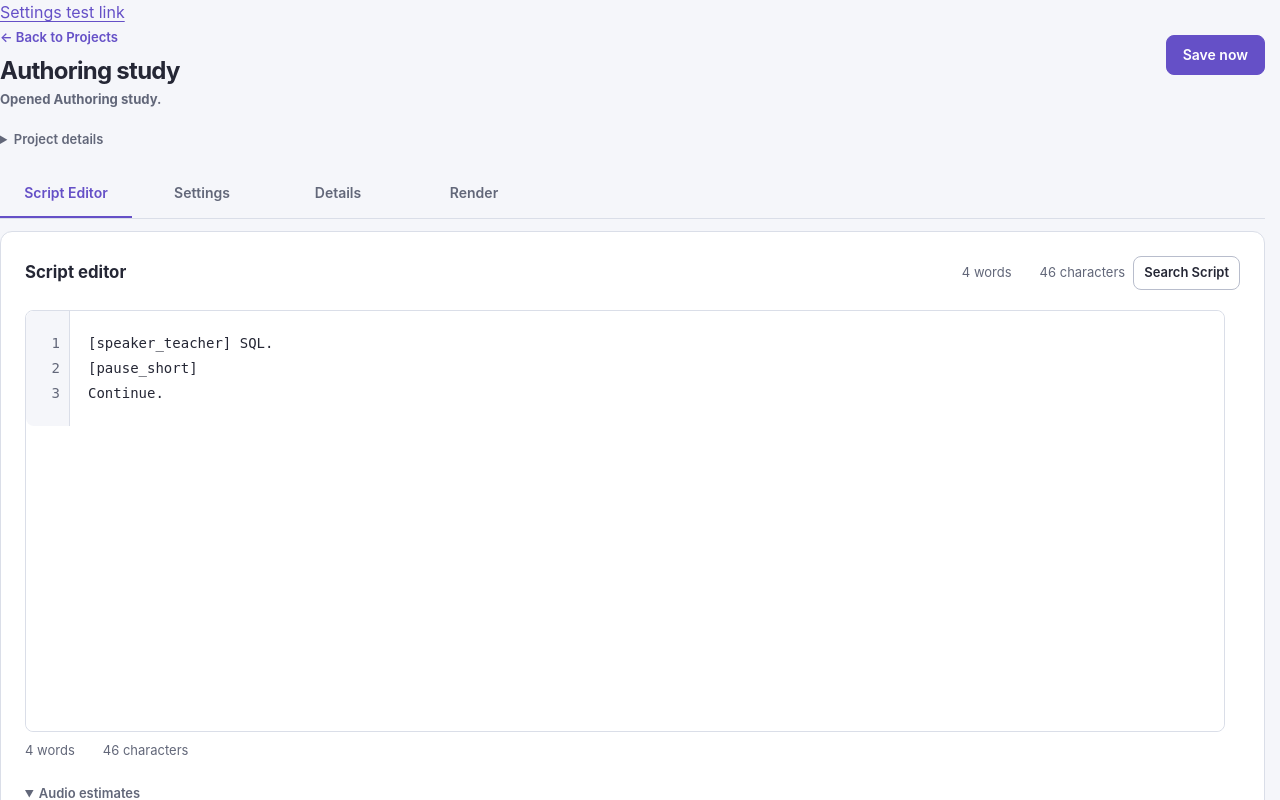
Test: Projects workbench › uses worker-derived speech and exact pauses with persisted voice calibration
This screenshot has width=1280, height=800.
Click the tab "Settings": [202, 194] box [136,170,268,218]
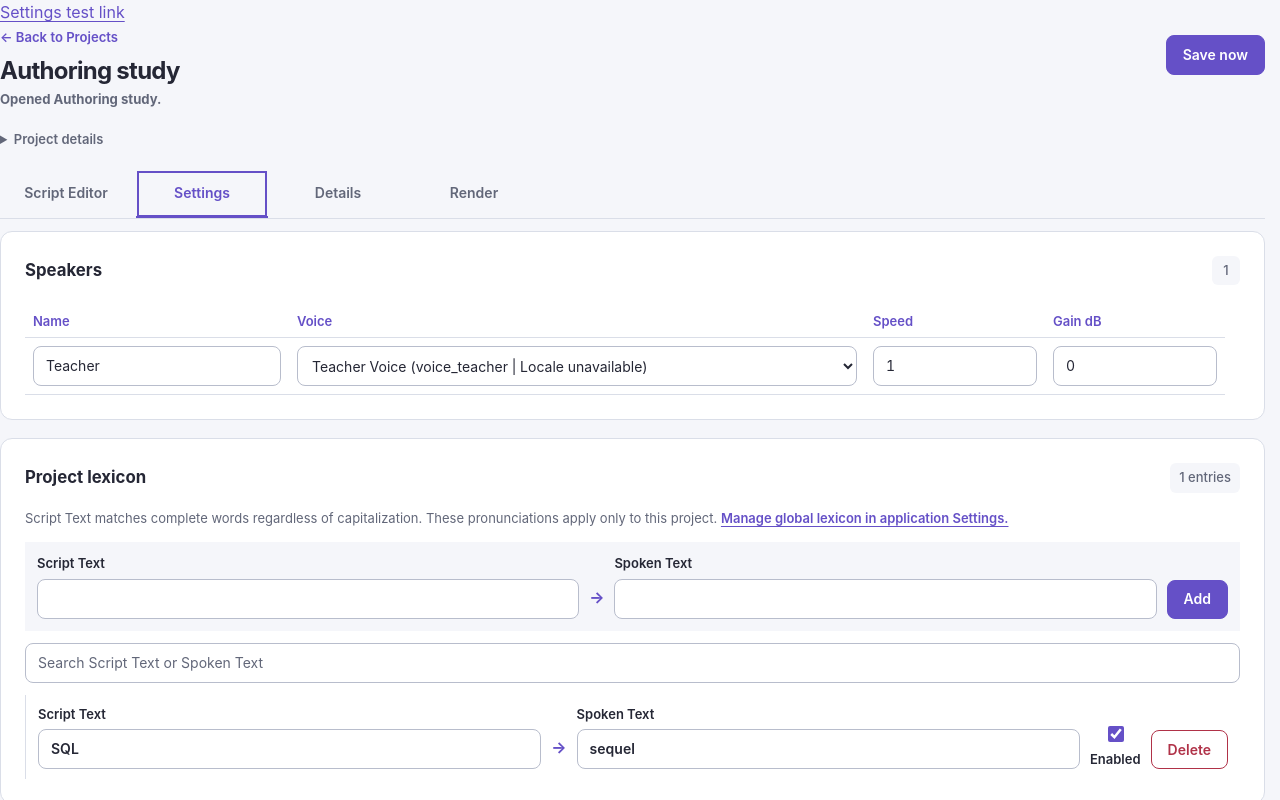
Replace the text in the number field named "Speed for speaker teacher" with "2": [955, 366] box [873,346,1037,386]
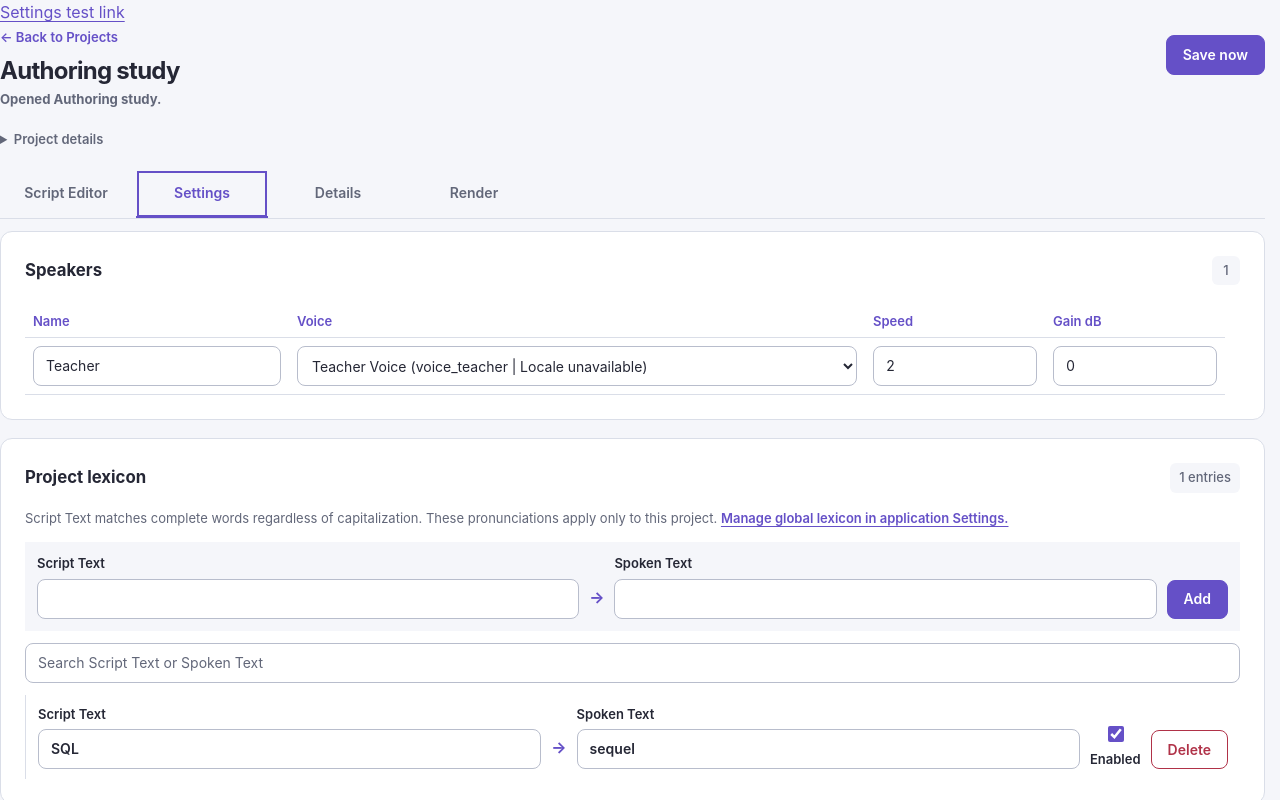
Click the tab "Script Editor": [66, 194] box [0,170,132,218]
(page scrolled)
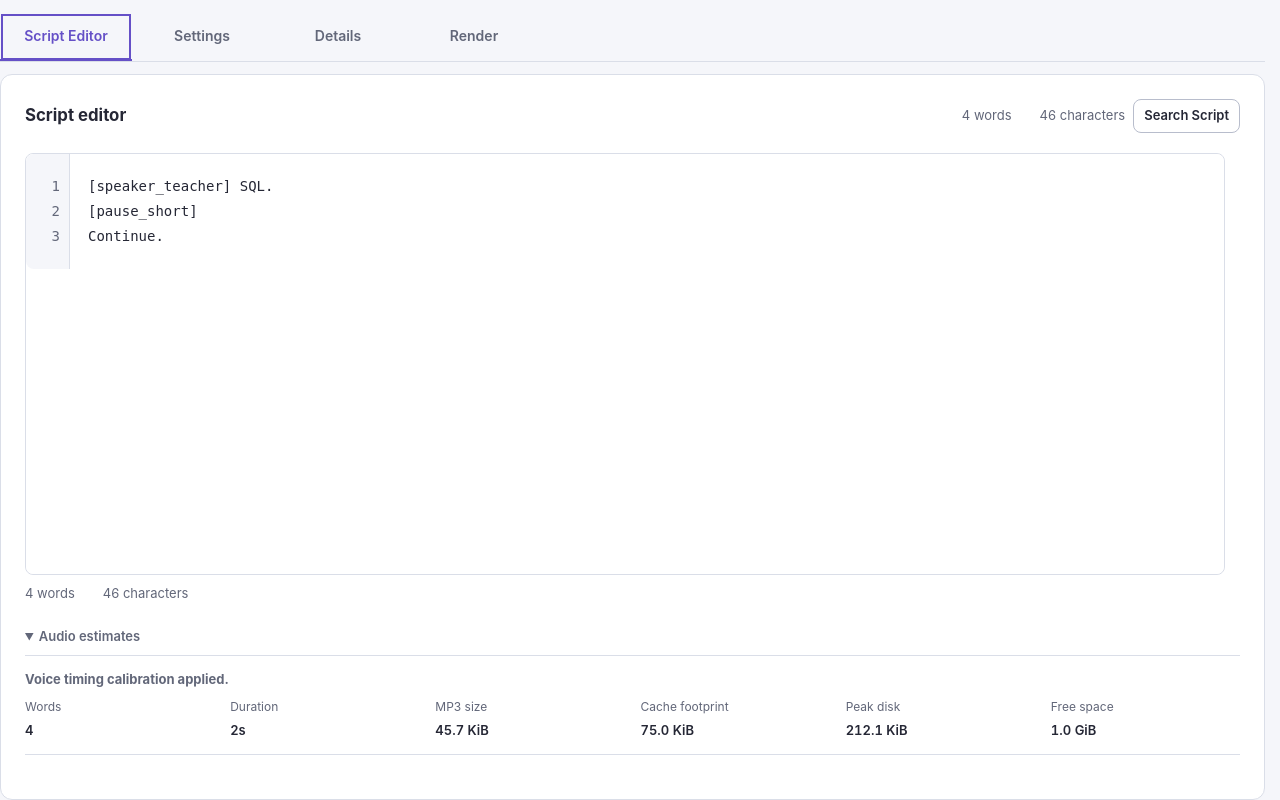
Check: the text "2s" is shown, box [230,722,246,738]
Check: the text "45.7 KiB" is shown, box [435,722,489,738]
Check: the text "75.0 KiB" is shown, box [640,722,694,738]
